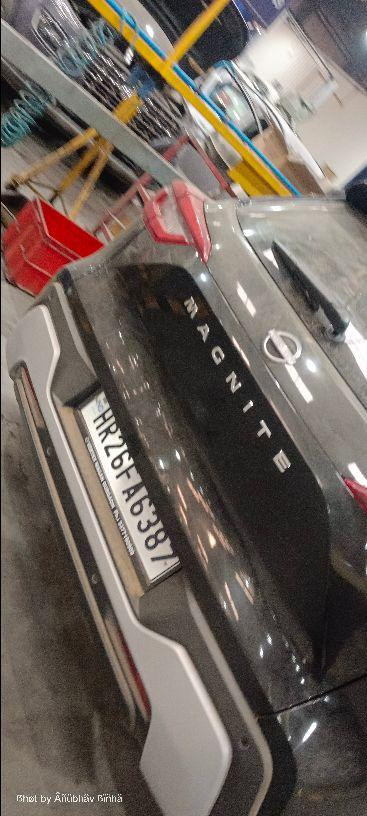license_plate: (7, 191, 365, 813), (70, 382, 183, 595)
